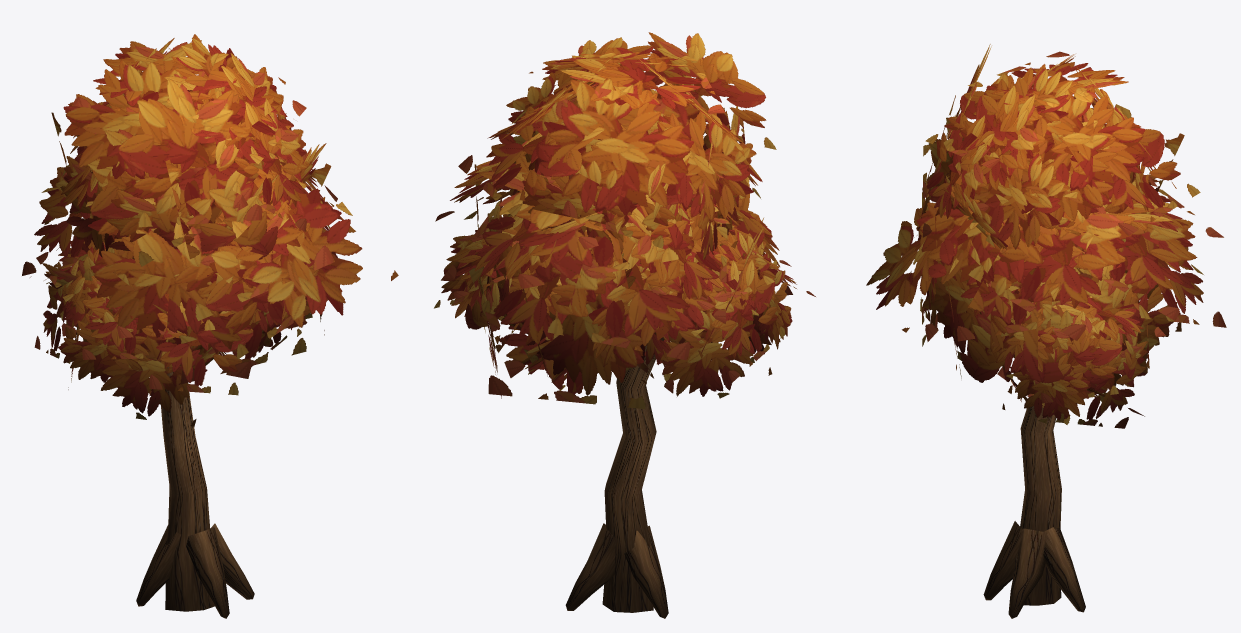
The model's file is tree_autumn_b.glb.
3 views of the same model, side by side, from view 1: azimuth 30°, elevation 25°; view 2: azimuth 150°, elevation 25°; view 3: azimuth 270°, elevation 25° (orthographic). The views are drawn at different scales.
Visible parts, largest first — view 1: tree_autumn_b; view 2: tree_autumn_b; view 3: tree_autumn_b.
Boxes of the visible parts, left/top/right/bottom form: tree_autumn_b: left=22, top=34, right=398, bottom=618; tree_autumn_b: left=434, top=32, right=815, bottom=618; tree_autumn_b: left=866, top=44, right=1226, bottom=618.
Bounding box in the file's own units: 2.75 × 4.5 × 2.88.
2 materials, 2 textured.
